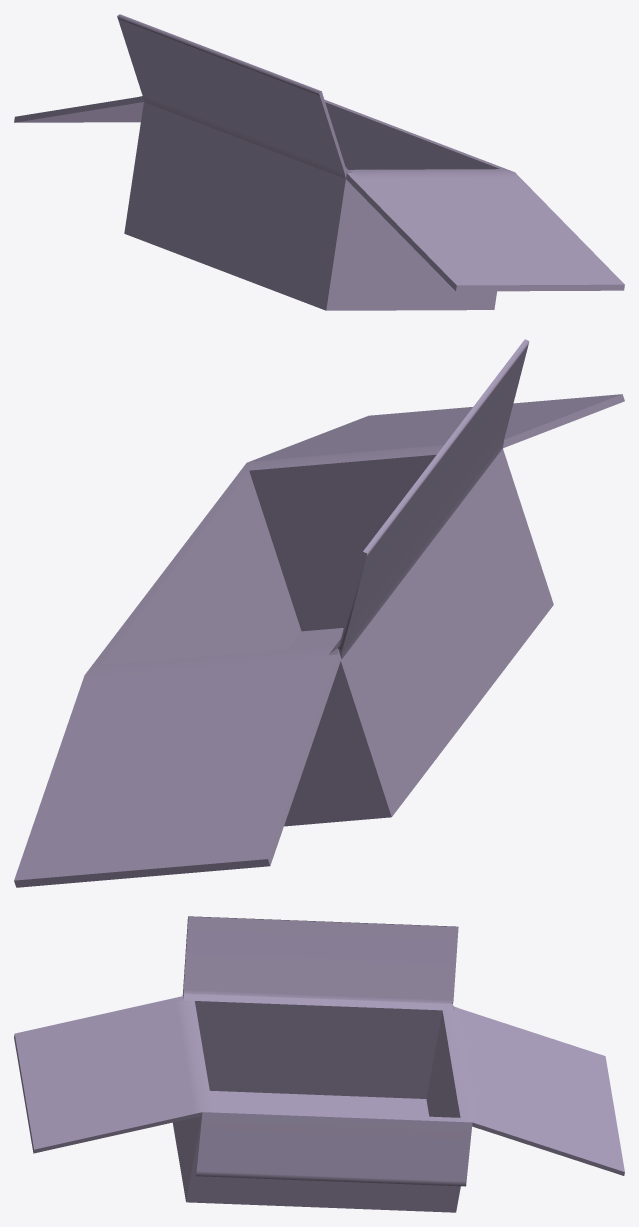
Rendered from Sloth_SmallBoxTwo.fbx.
3 views of the same model, one above another, from view 1: azimuth 30°, elevation 25°; view 2: azimuth 150°, elevation 25°; view 3: azimuth 270°, elevation 25° (orthographic). The views are drawn at different scales.
Visible parts, largest first — view 1: box2; view 2: box2; view 3: box2.
Boxes of the visible parts, x1,y1,x2,y2 form: box2: (14,14,624,310); box2: (14,339,624,887); box2: (14,916,624,1212).
Size of the model in its own units: 0.7322 by 0.7593 by 1.73.
